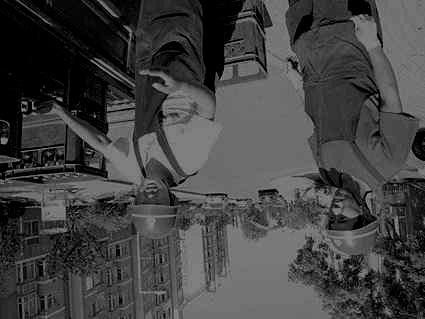helmet: (325, 187, 379, 255), (127, 175, 181, 240)
